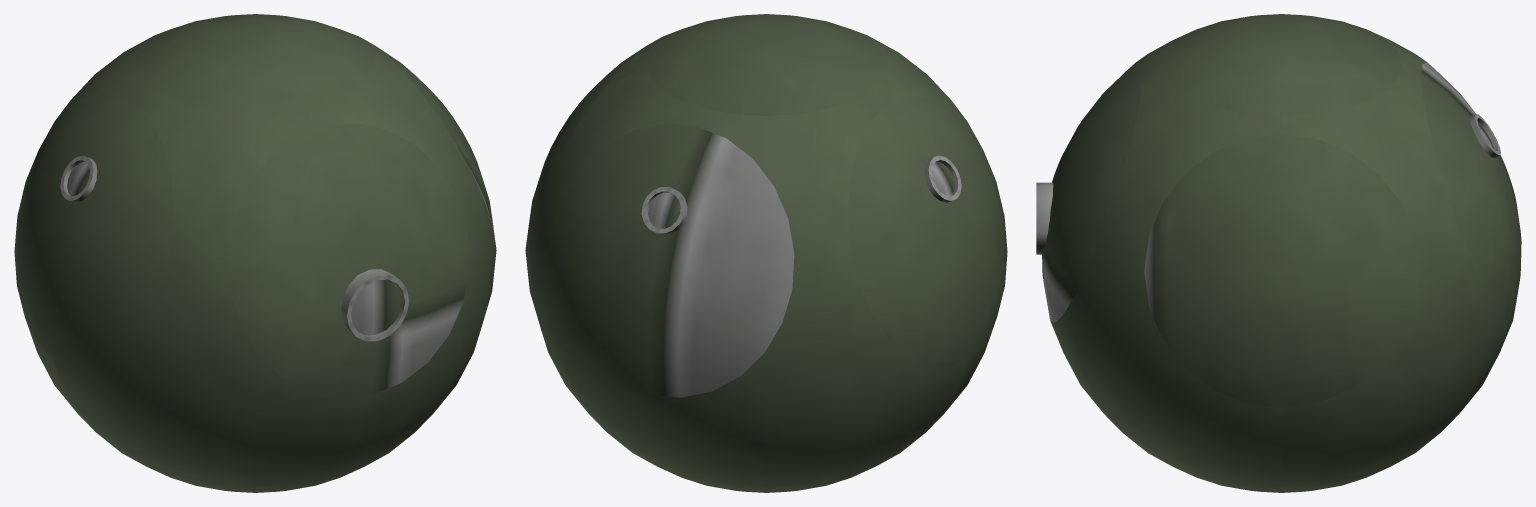
The model's file is andromeda_crew_s1_2.obj.
3 views of the same model, side by side, from view 1: azimuth 30°, elevation 25°; view 2: azimuth 150°, elevation 25°; view 3: azimuth 270°, elevation 25° (orthographic).
Parts seen in each view (by area): view 1: 1, w1; view 2: 1, w1; view 3: 1.
Part boxes in pixels (x1,y1,x2,y2): 1: (14,14,496,492); w1: (67,161,402,335); 1: (525,14,1007,492); w1: (648,161,954,228); 1: (1036,14,1521,492).
Size of the model in its own units: 1.25 by 1.25 by 1.26.
